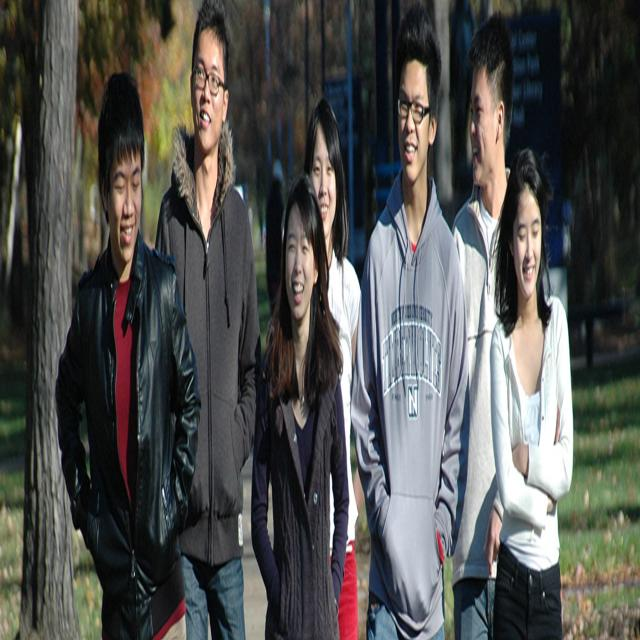body: (51, 62, 202, 639), (348, 0, 472, 639), (152, 0, 262, 639), (248, 168, 350, 639), (488, 136, 576, 639), (451, 9, 514, 640), (303, 94, 361, 640), (265, 158, 286, 316)
